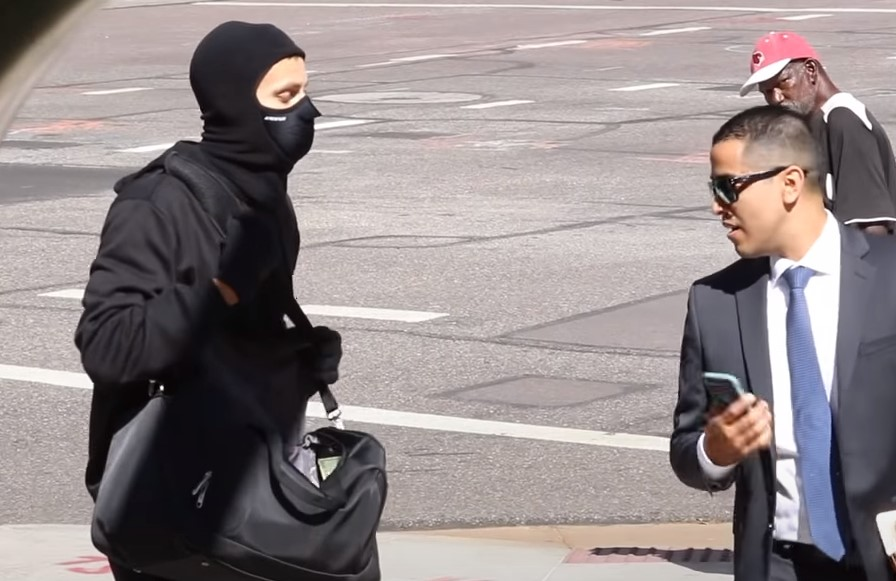face_no_mask: (704, 112, 822, 261), (752, 31, 824, 117)
face_with_mask: (192, 26, 324, 176)
